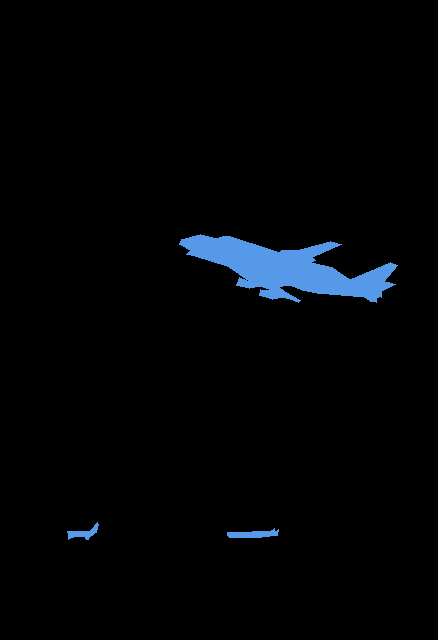Airplane: (179, 234, 398, 303), (67, 522, 98, 539), (227, 528, 278, 538)
